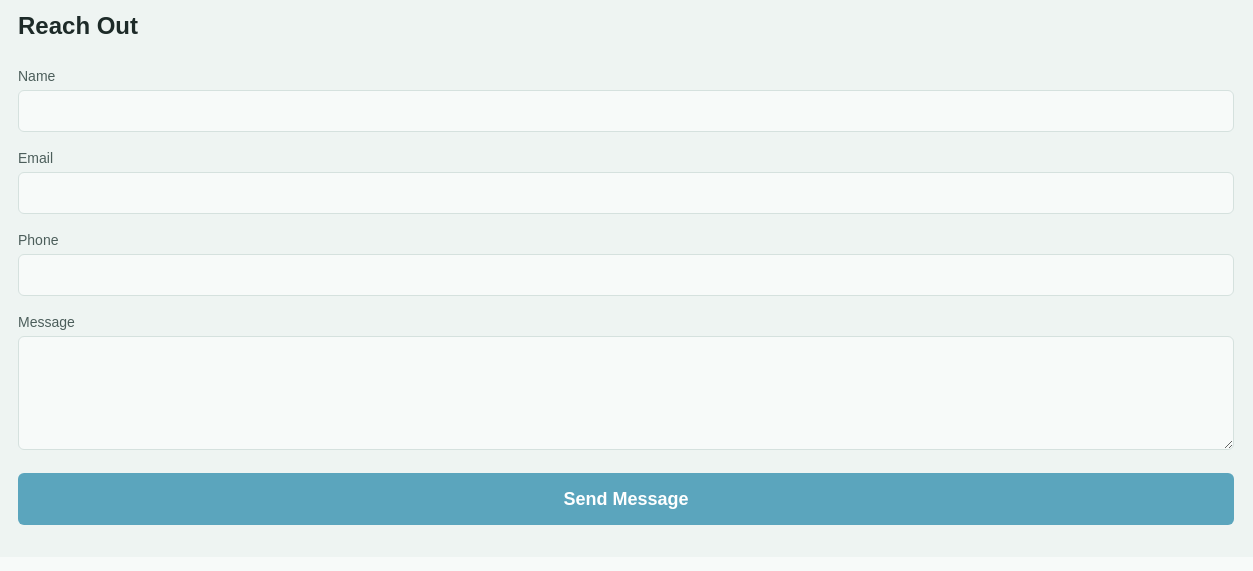
Test: ContactForm › requires either email or phone
The image size is (1253, 571).
Step 1. Type "Jane Doe" into the field labelled "Name" → (626, 111), box x1=18 y1=90 x2=1234 y2=132
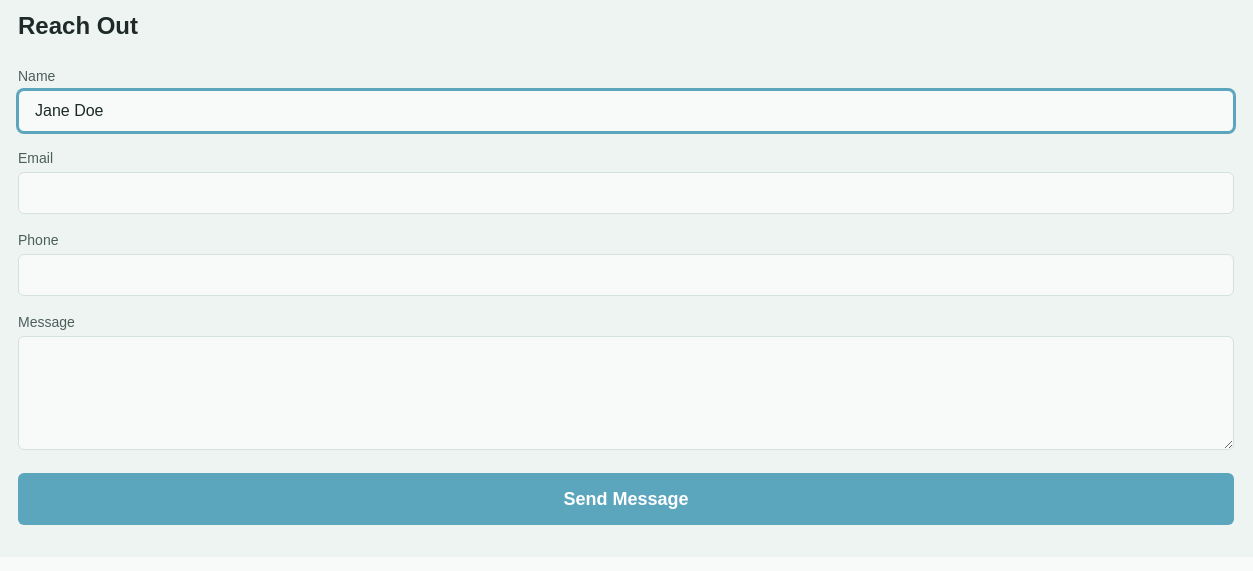
Step 2. Type "Hello there." into the text box labelled "Message" → (626, 393), box x1=18 y1=336 x2=1234 y2=450
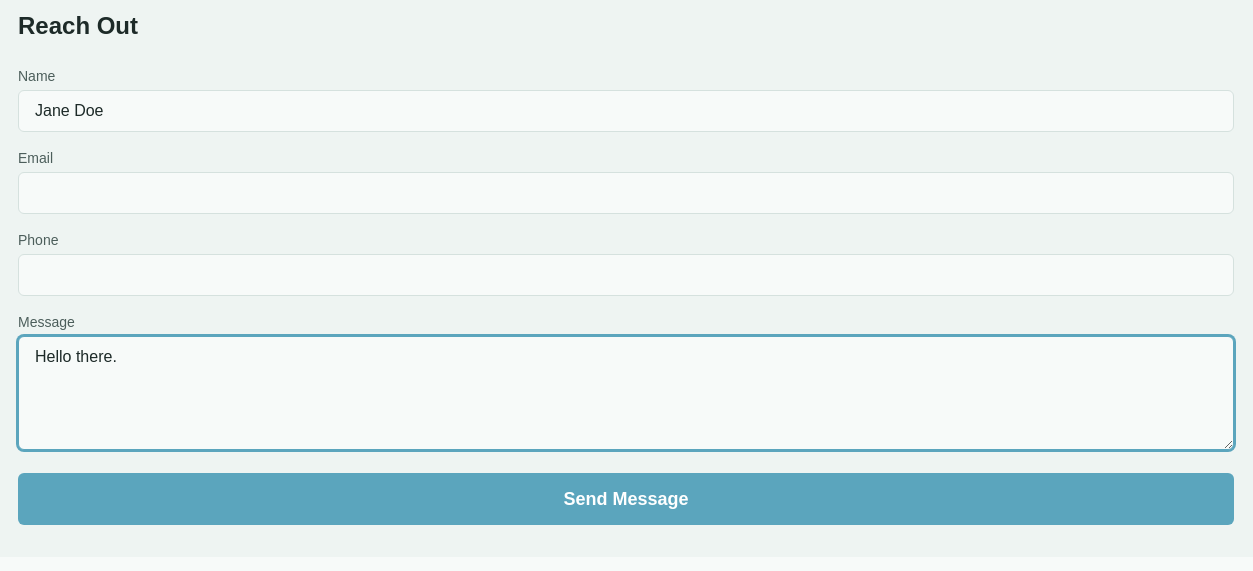
Step 3. Click the button "Send Message" → (626, 499), box x1=18 y1=473 x2=1234 y2=525
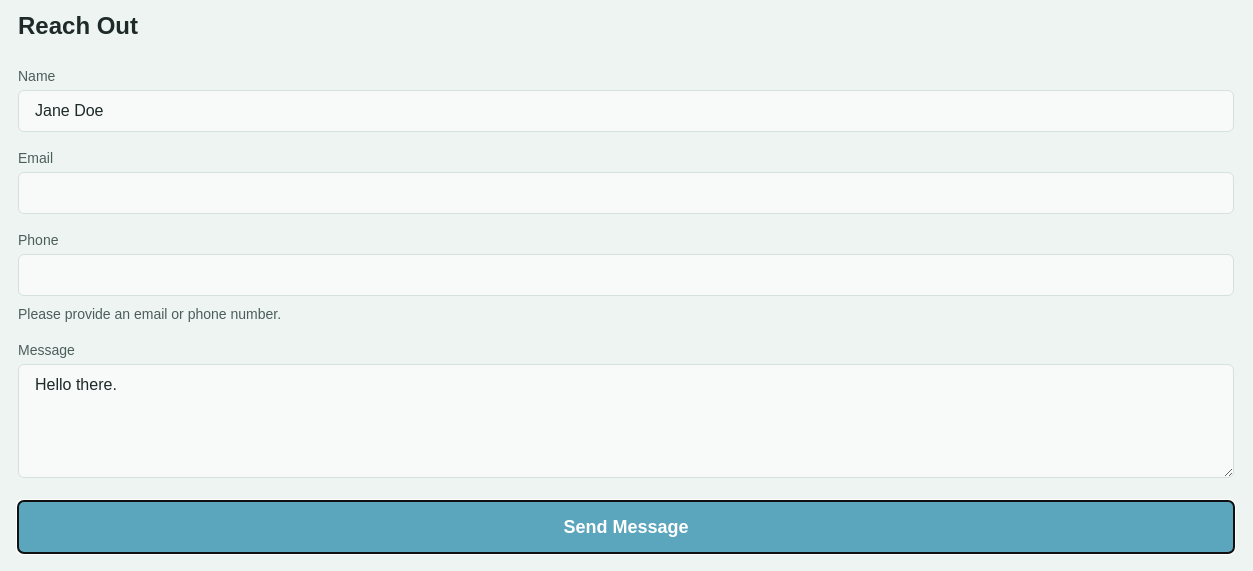
Expected: the text "Please provide an email or phone number." is shown, x1=18 y1=306 x2=281 y2=322
